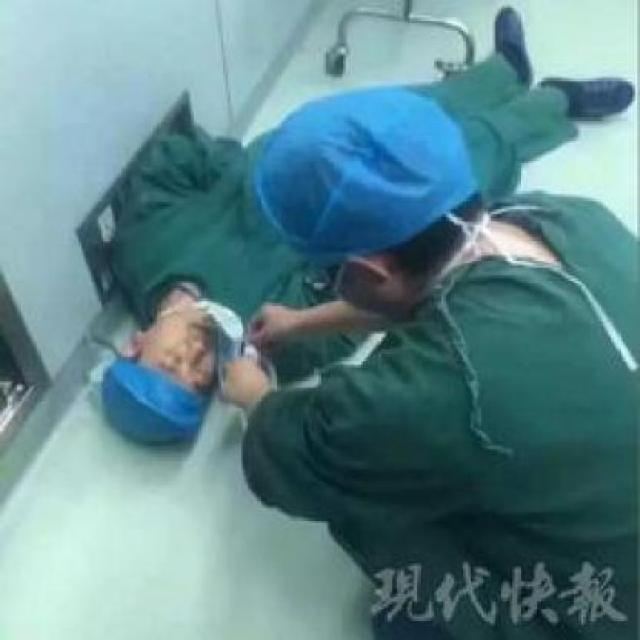fall: (80, 69, 412, 432)
